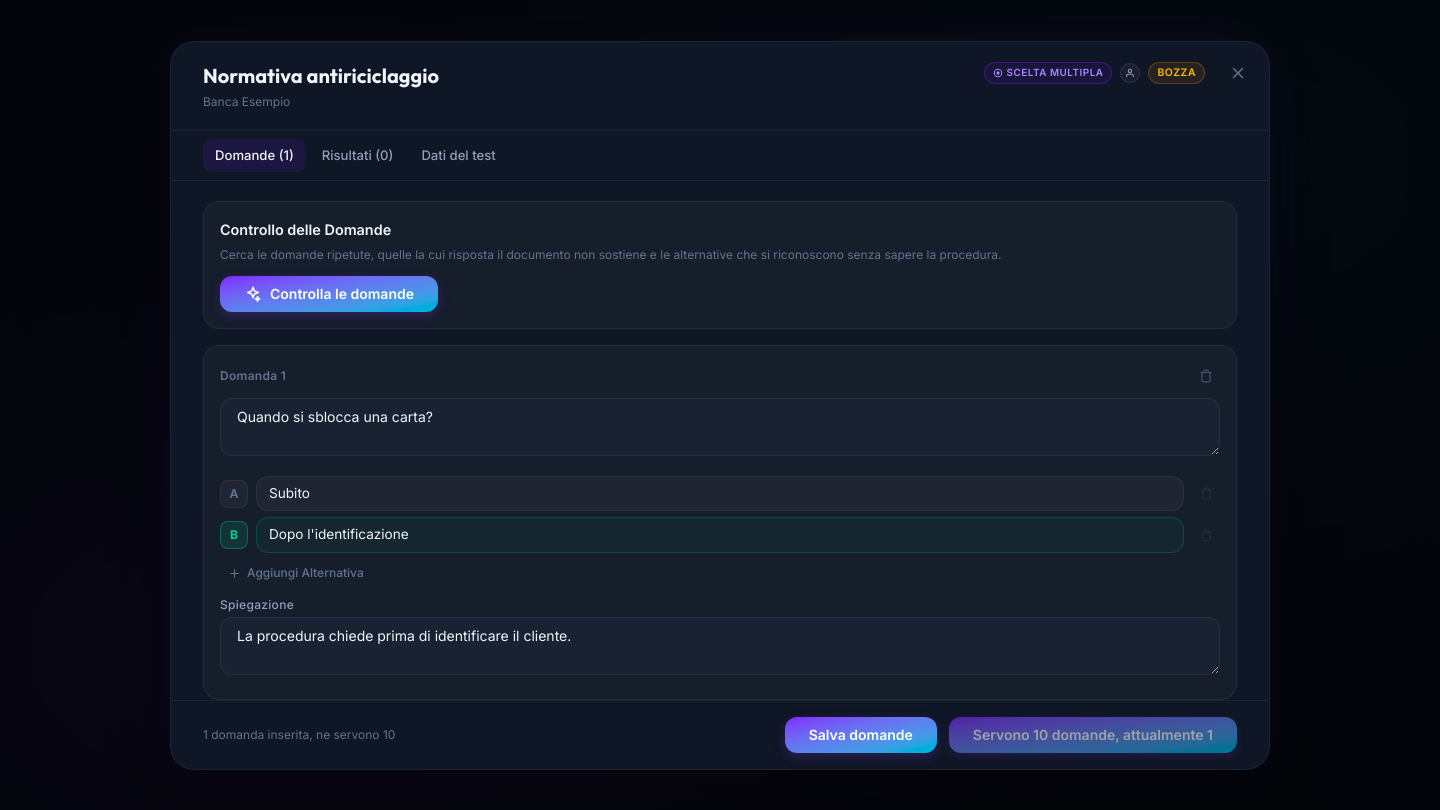
Test: SimulationEditorModal › tiene il titolo in scrittura cambiando linguetta
Click the tab "Dati del test": click(459, 155) [409, 138, 508, 172]
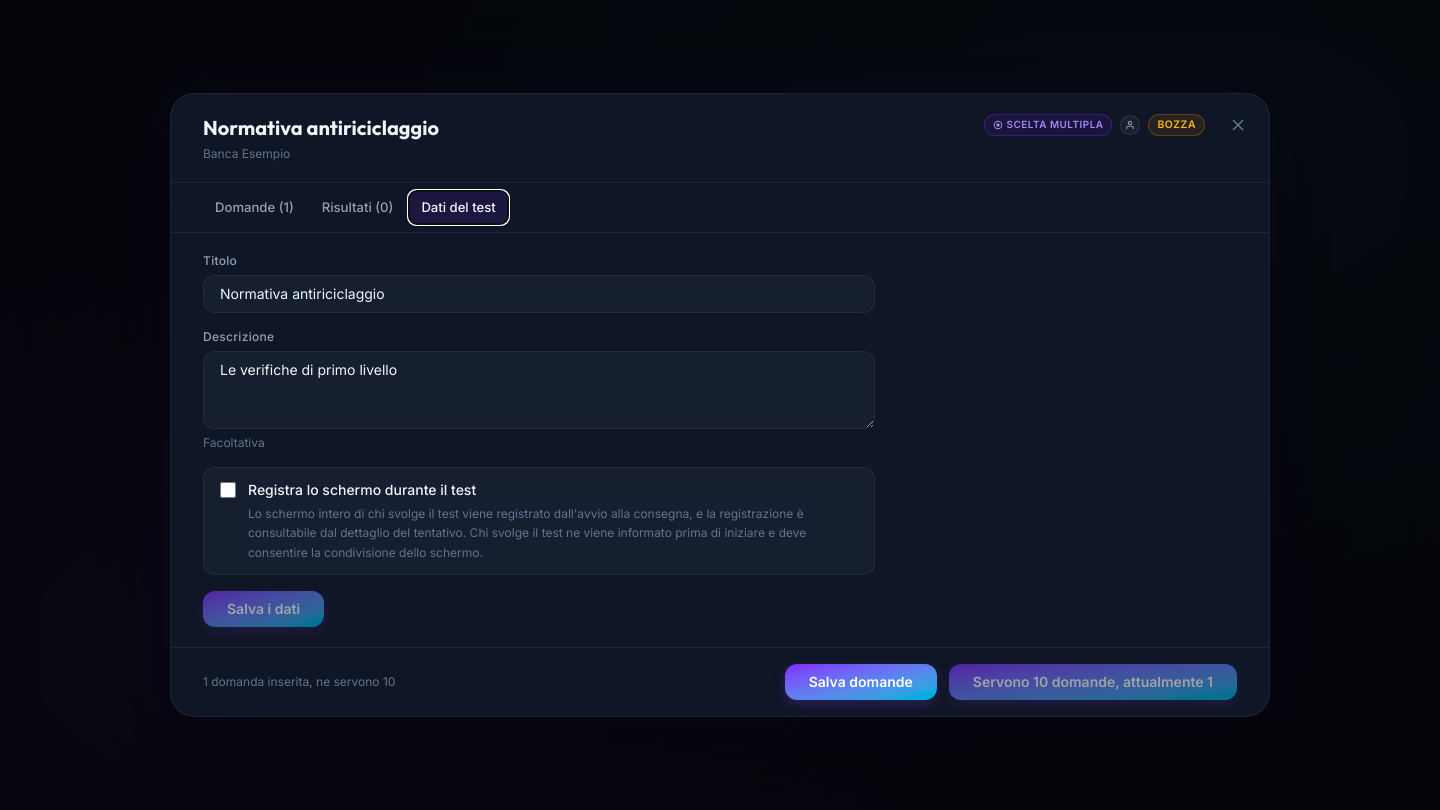
In the field labelled "Titolo": (539, 294) [220, 276, 858, 312], type " 2026"
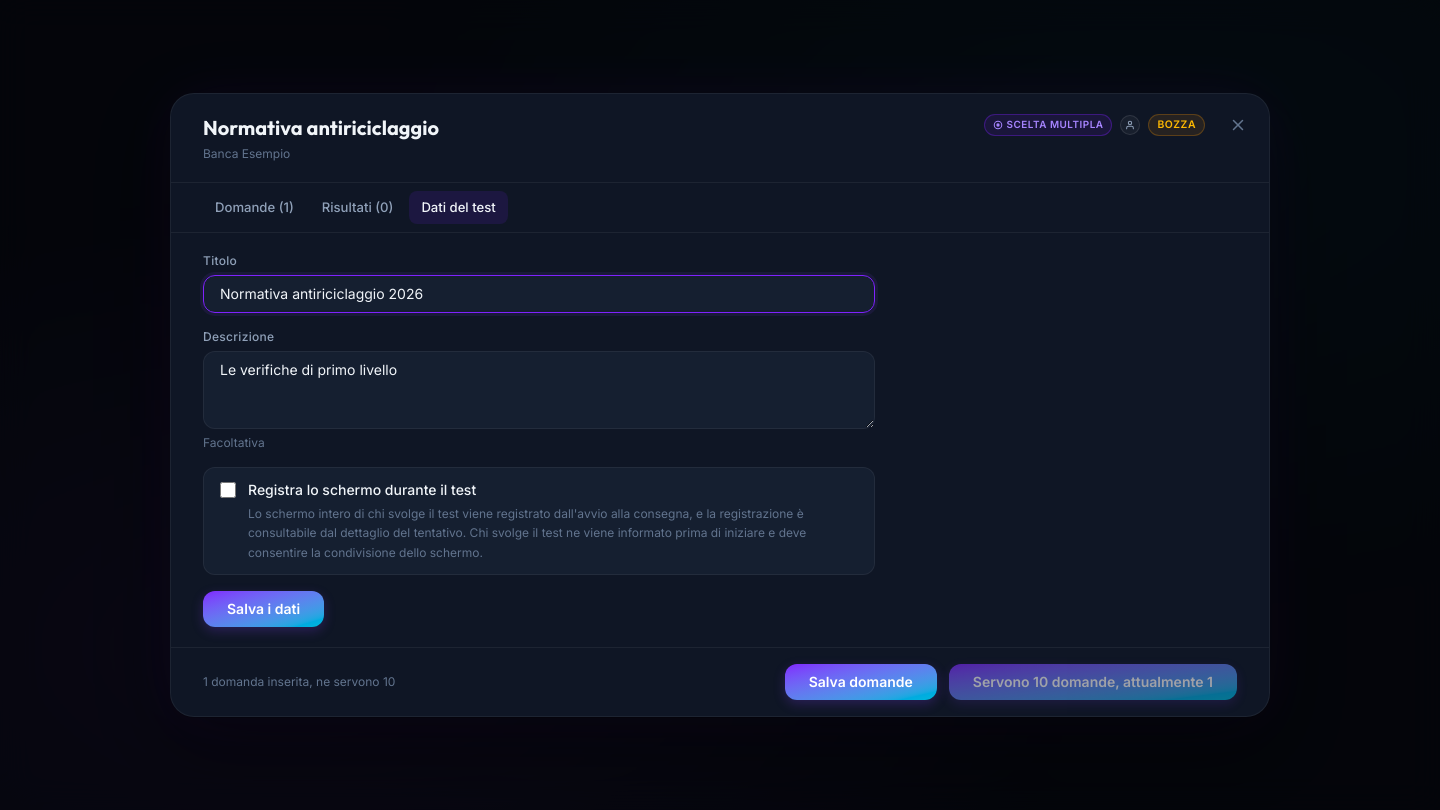
Click the tab "Domande (1)": click(254, 207) [203, 191, 306, 224]
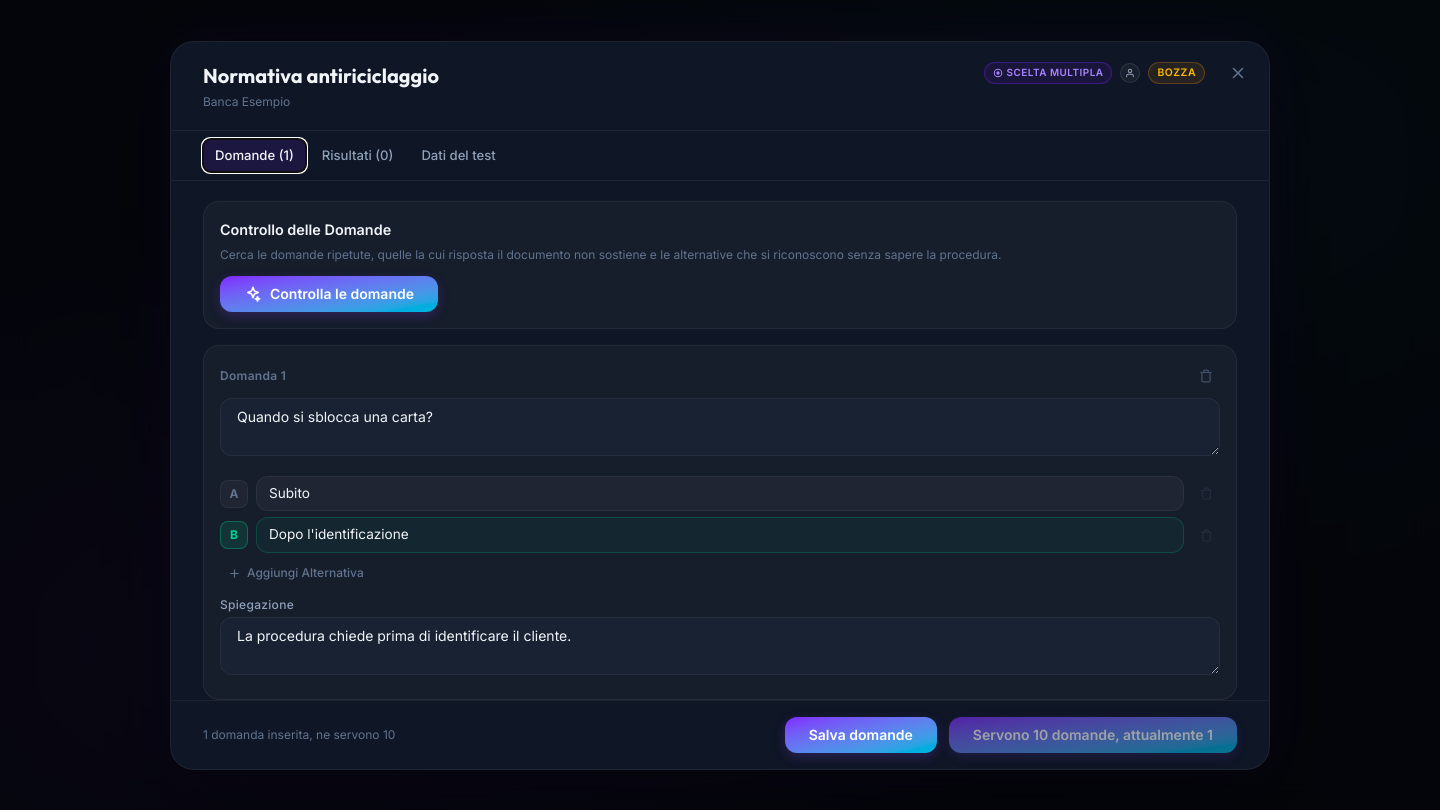
Click the tab "Dati del test": click(459, 155) [409, 138, 508, 172]
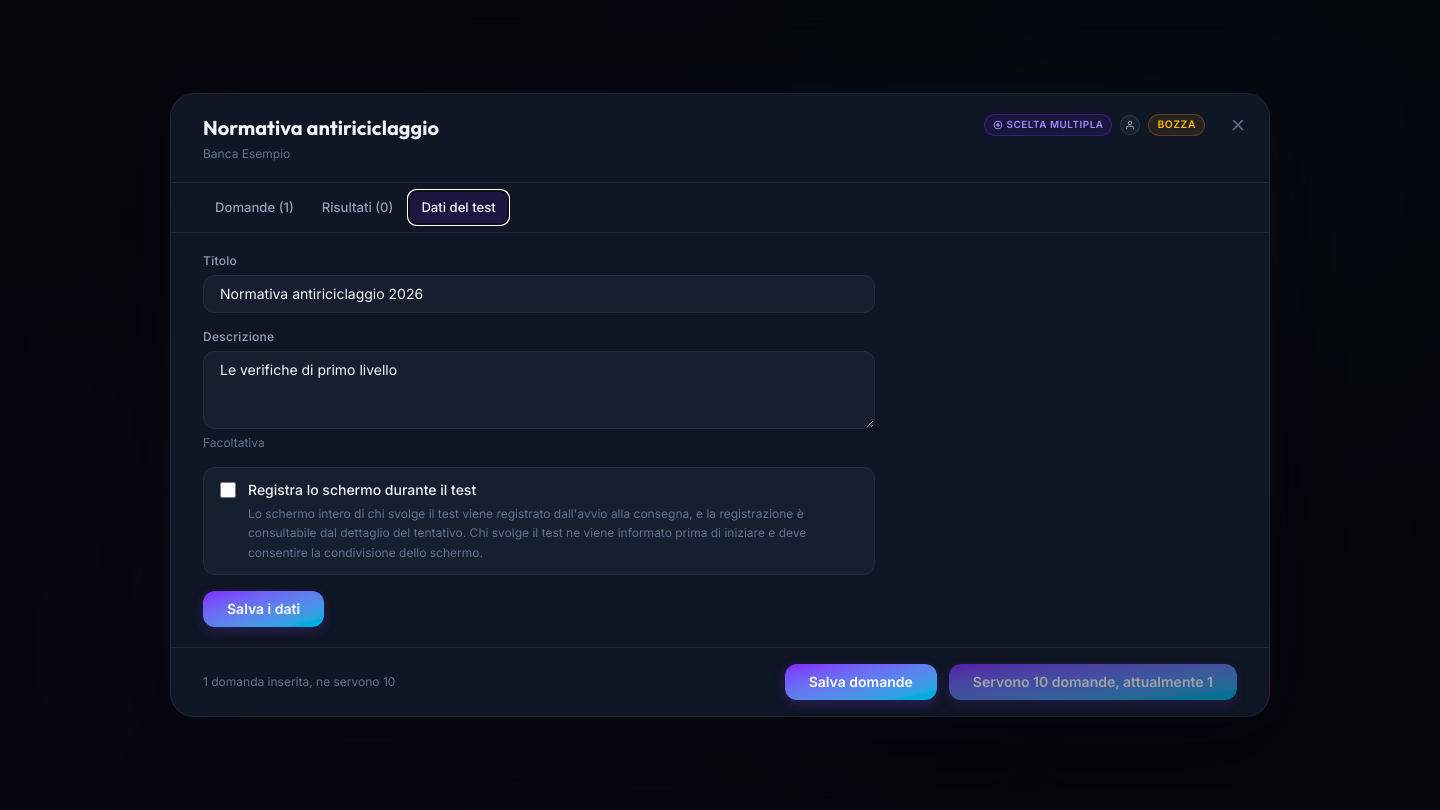
Now the field labelled "Titolo" holds "Normativa antiriciclaggio 2026", box [220, 276, 858, 312]
